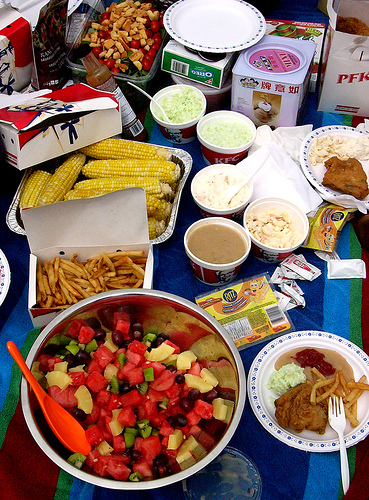corn: (77, 153, 183, 187), (17, 167, 53, 212)
